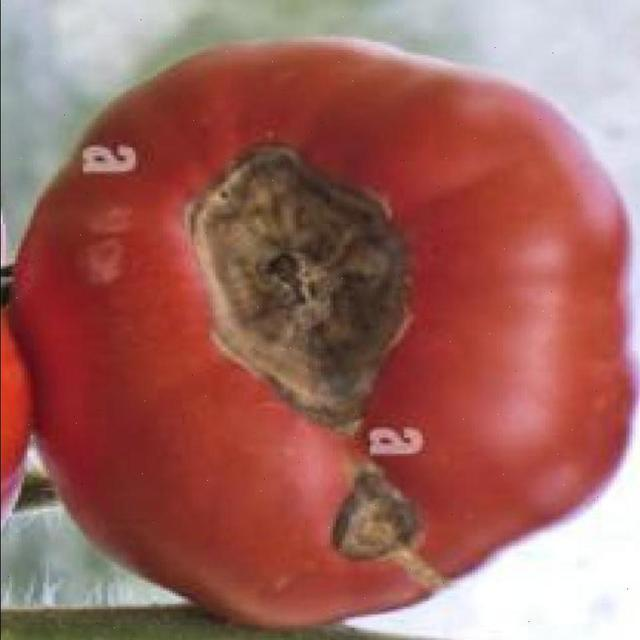Blossom End Rot Fruit: (104, 69, 260, 347)
